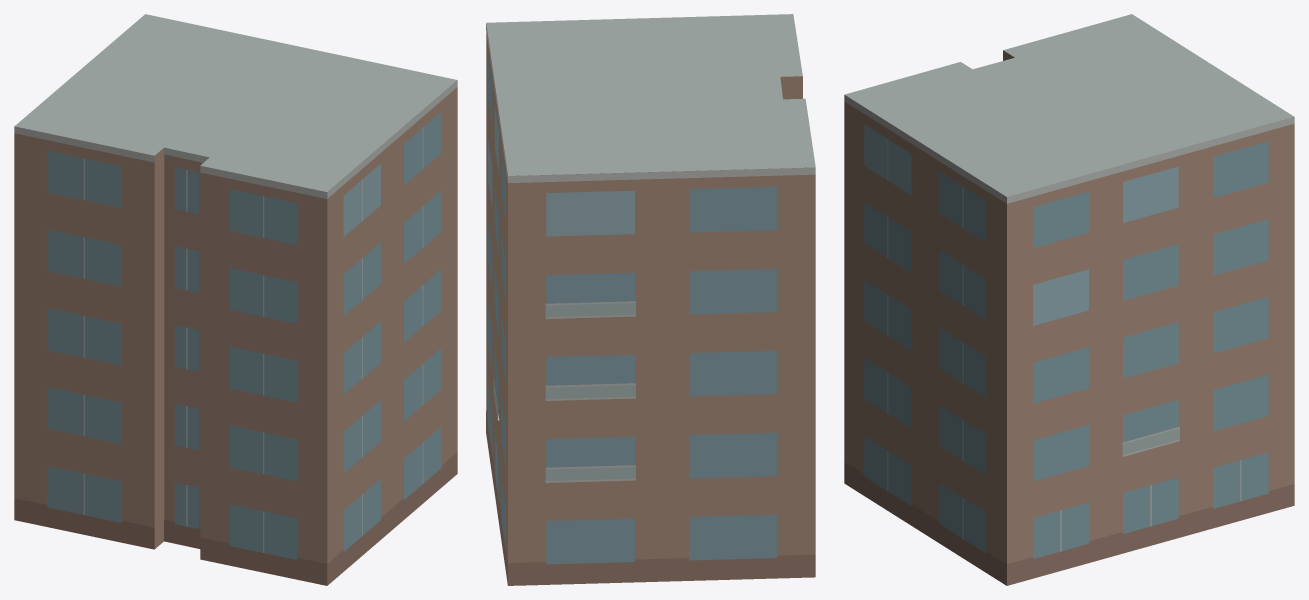
Rendered from survey-upis-32882668.glb.
The picture shows the model from 3 angles, left to right: view 1: azimuth 30°, elevation 25°; view 2: azimuth 150°, elevation 25°; view 3: azimuth 270°, elevation 25°; orthographic projection. The views are drawn at different scales.
Parts seen in each view (by area): view 1: survey-upis-32882668.tmp; view 2: survey-upis-32882668.tmp; view 3: survey-upis-32882668.tmp.
Part boxes in pixels (x1=…): survey-upis-32882668.tmp: x1=14, y1=14, x2=457, y2=585; survey-upis-32882668.tmp: x1=486, y1=14, x2=815, y2=585; survey-upis-32882668.tmp: x1=844, y1=14, x2=1294, y2=585.
Bounding box in the file's own units: 14.15 × 14 × 14.7.
